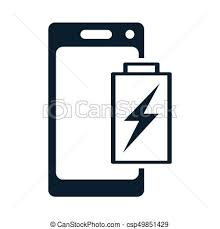charging sign: (100, 53, 190, 172)
